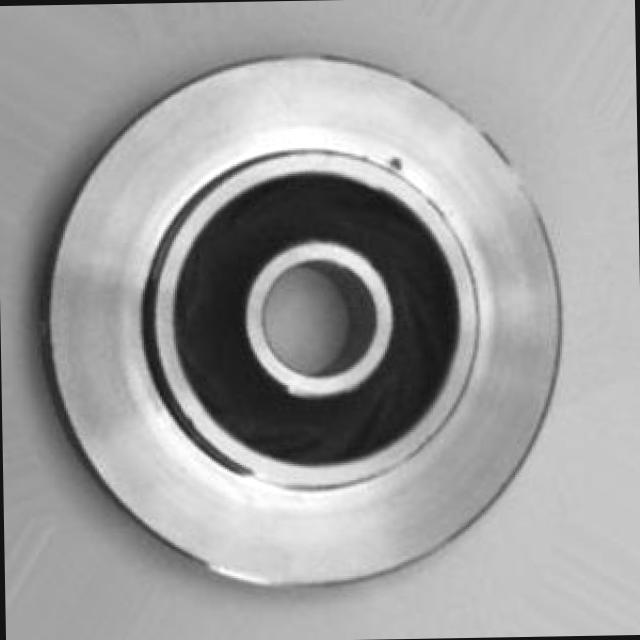Defect: (373, 133, 418, 192)
